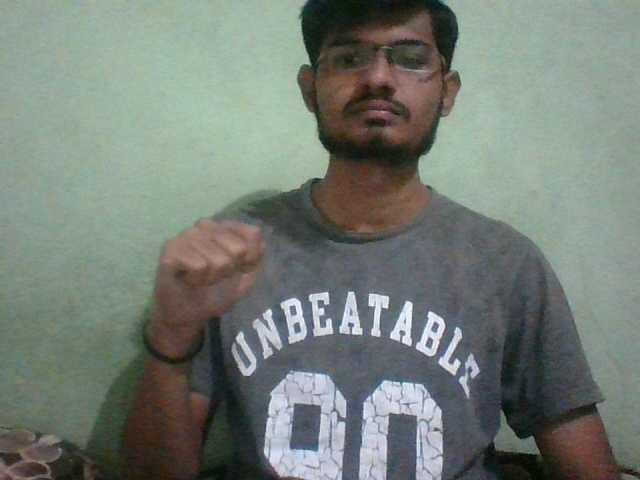yes: (140, 215, 278, 329)
